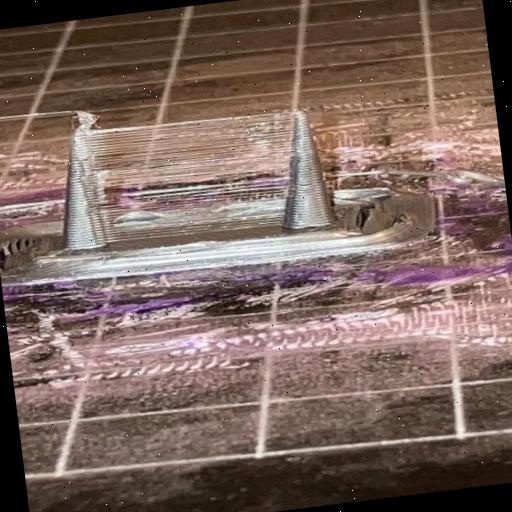stringing: (79, 104, 310, 256)
